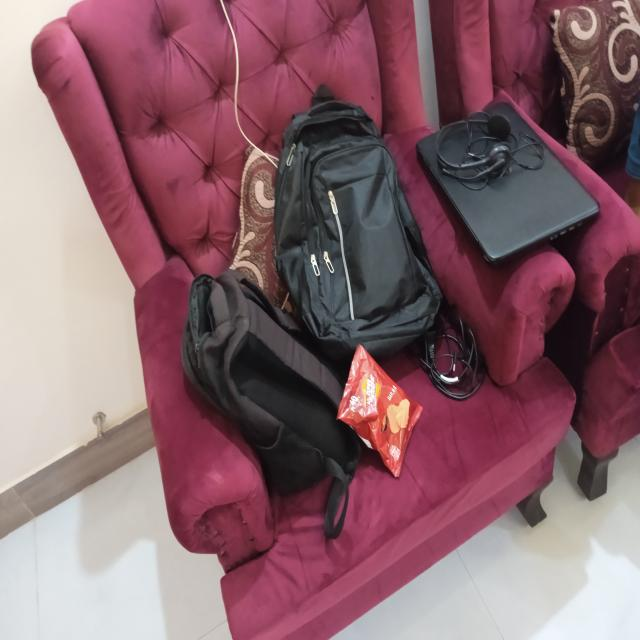Plastic: (334, 348, 432, 481)
